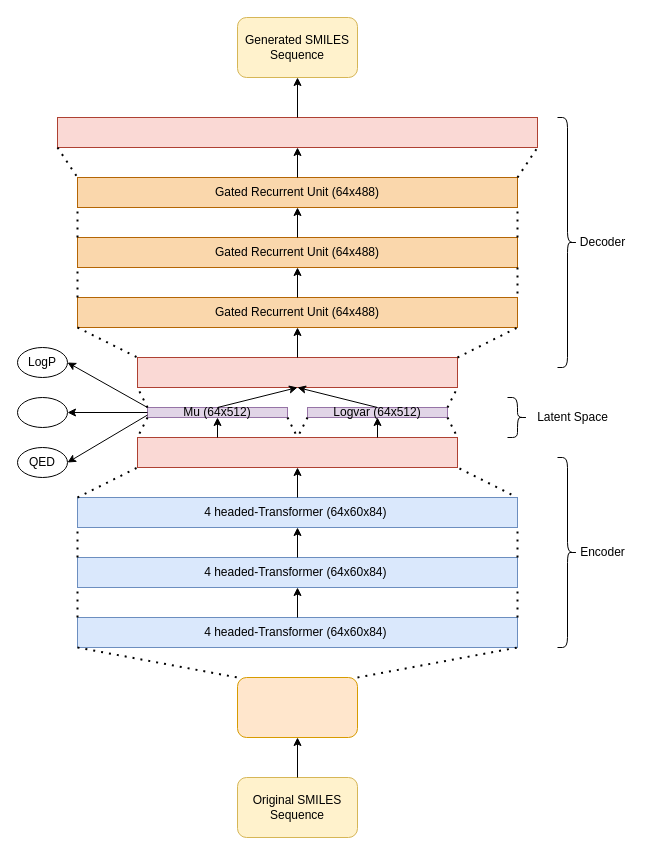
This 655x855 diagram has some shape labels left out. The box of each missing label's shape, as (x1, y1, x2, y2) in pixels:
Linear Layer (64x300): (136, 356, 458, 388)
Linear Layer (64x512): (136, 436, 458, 468)
Linear Layer (64x60x84): (56, 116, 538, 148)
Preprocessing: tokenization, padding and embedding: (236, 676, 358, 738)
SAS: (16, 396, 68, 428)
